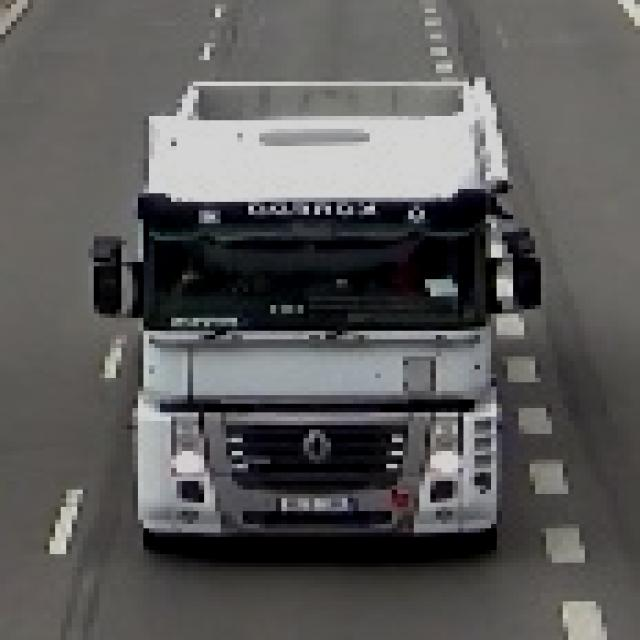TRUCK: (113, 71, 544, 560)
